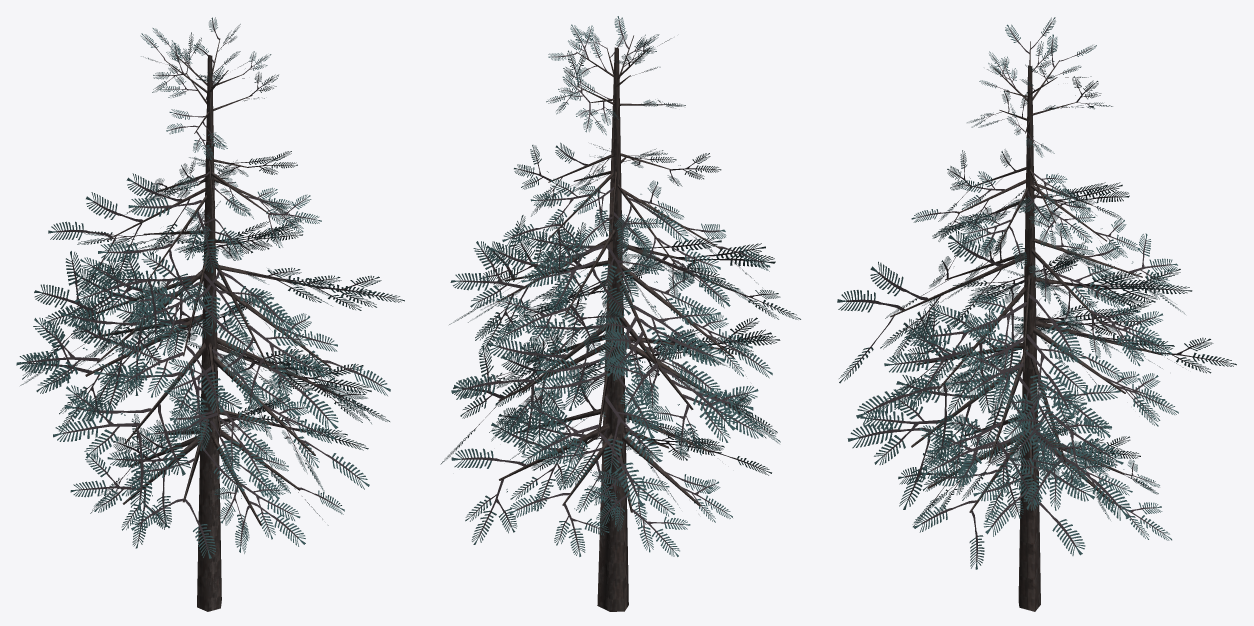
Rendered from Pine_01.fbx.
3 views of the same model, side by side, from view 1: azimuth 30°, elevation 25°; view 2: azimuth 150°, elevation 25°; view 3: azimuth 270°, elevation 25° (orthographic). The views are drawn at different scales.
Parts seen in each view (by area): view 1: LOD0; view 2: LOD0; view 3: LOD0.
Boxes of the visible parts, bbox=[...] form: LOD0: bbox=[16, 17, 404, 611]; LOD0: bbox=[440, 16, 800, 611]; LOD0: bbox=[837, 17, 1236, 611].
Size of the model in its own units: 217 by 359 by 234.
